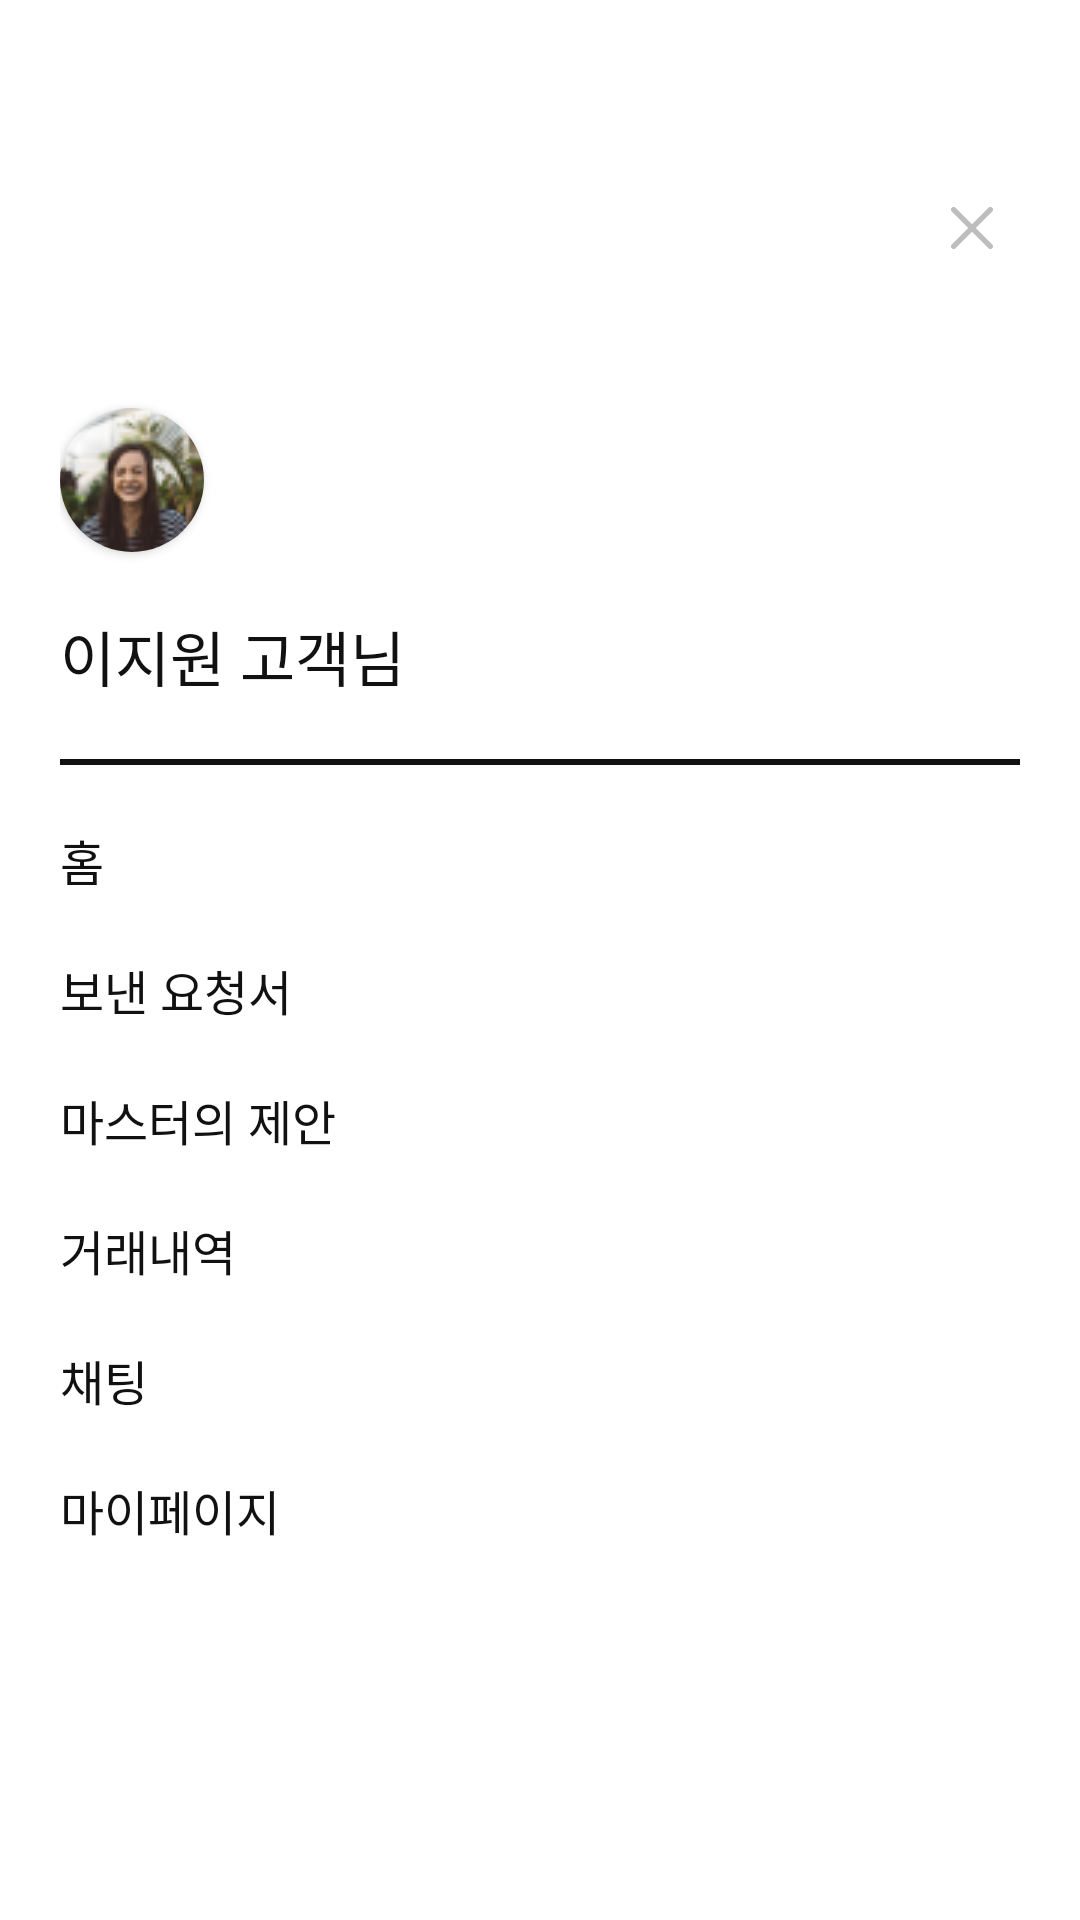

Icons on this 1080x1920 Android screen, each with the point to tap as (x=x, y=y):
avt: (x=132, y=480)
close: (x=972, y=228)
